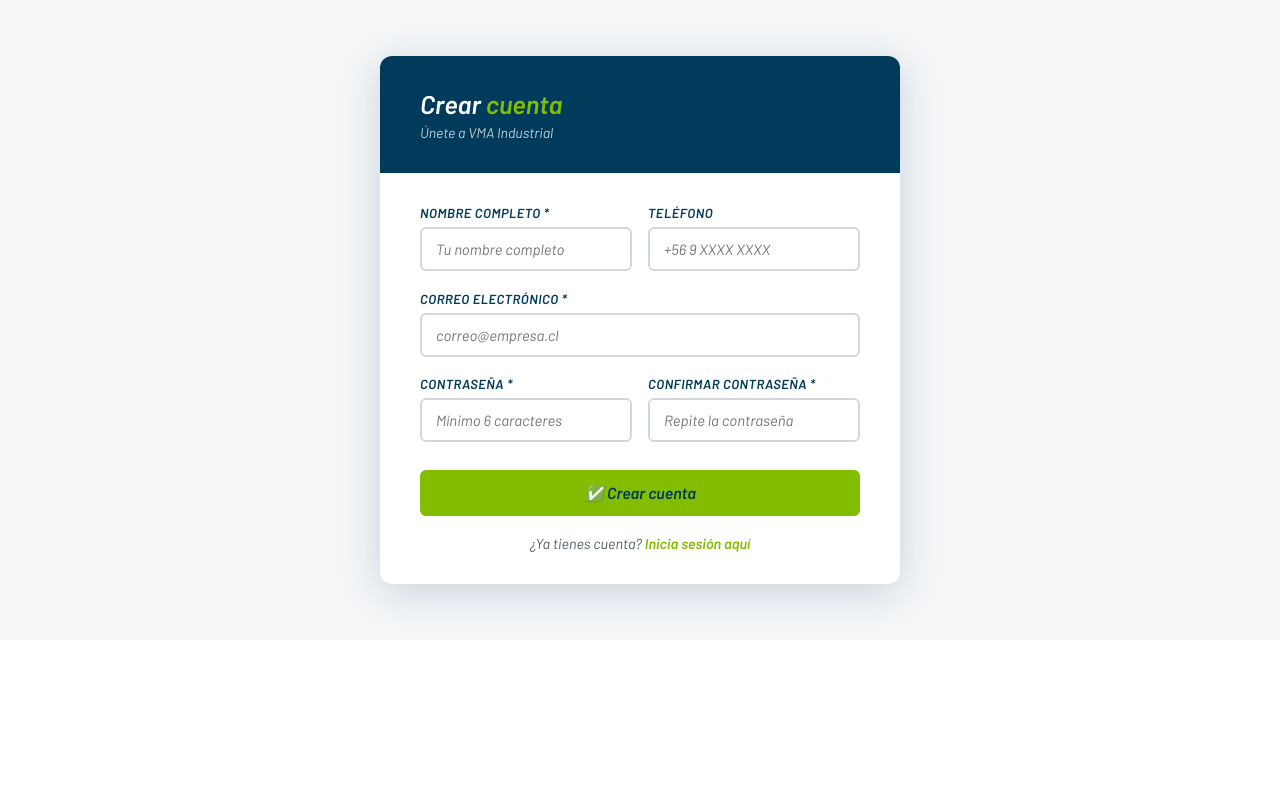
Scenario: Página Registro — validaciones › muestra error de correo inválido
Type "no-es-correo" into the field labelled "Correo electrónico *" at (640, 335), box [420,313,860,357]
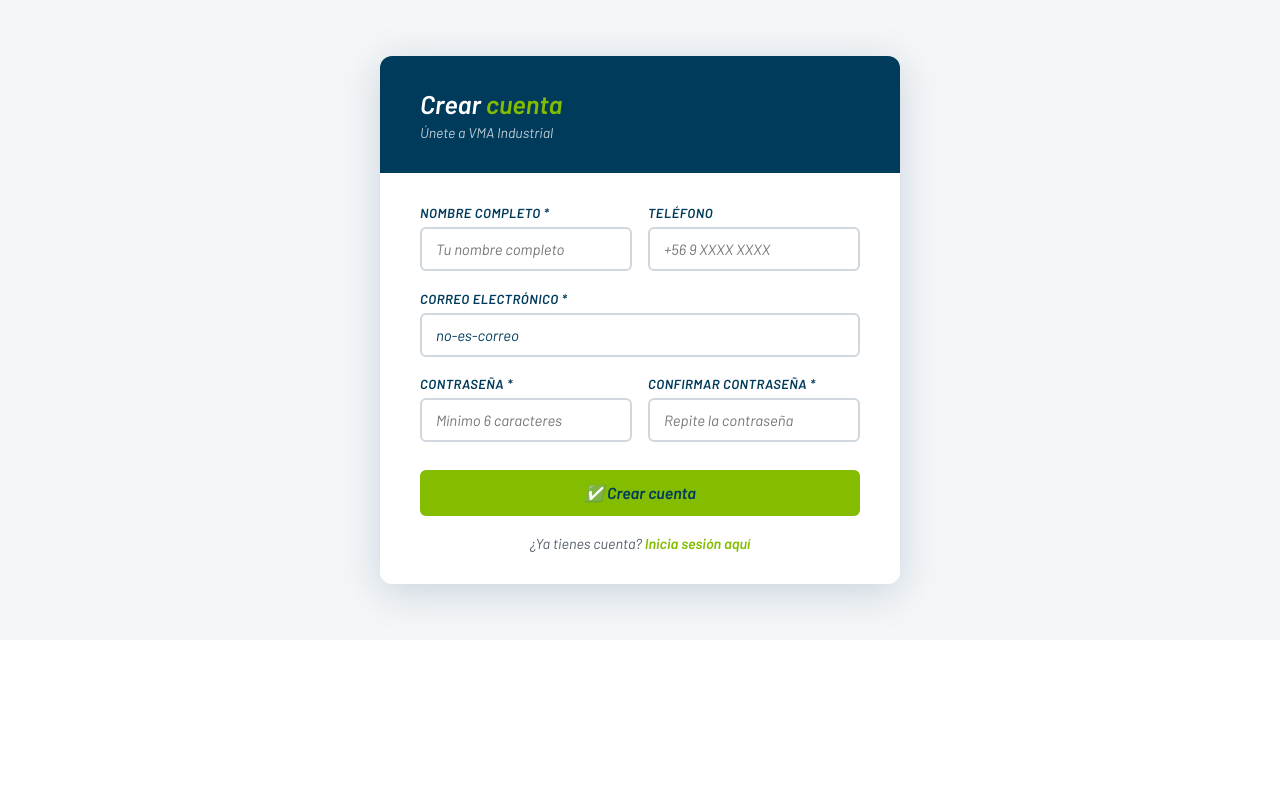
Click the button "✅ Crear cuenta" at (640, 493), box [420,470,860,516]
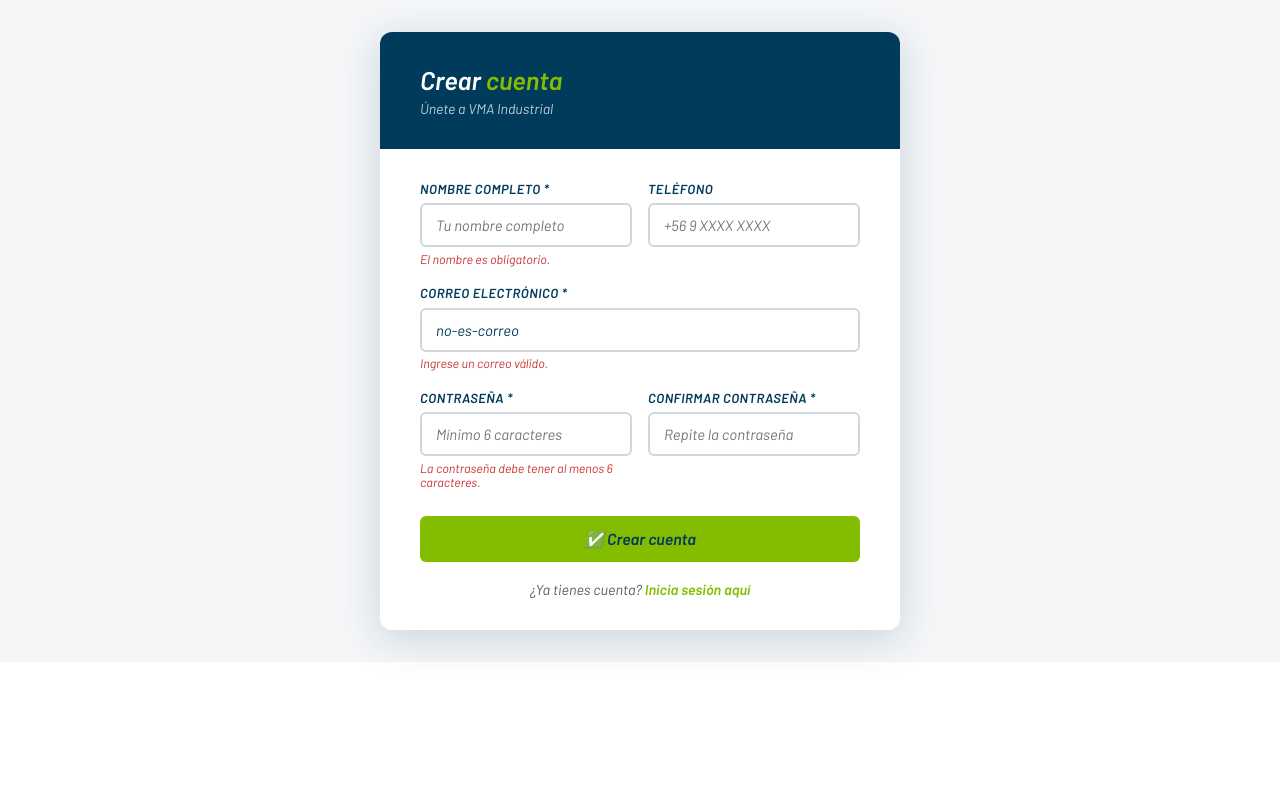
Now the text "Ingrese un correo válido." is shown, box [420,356,548,370]
